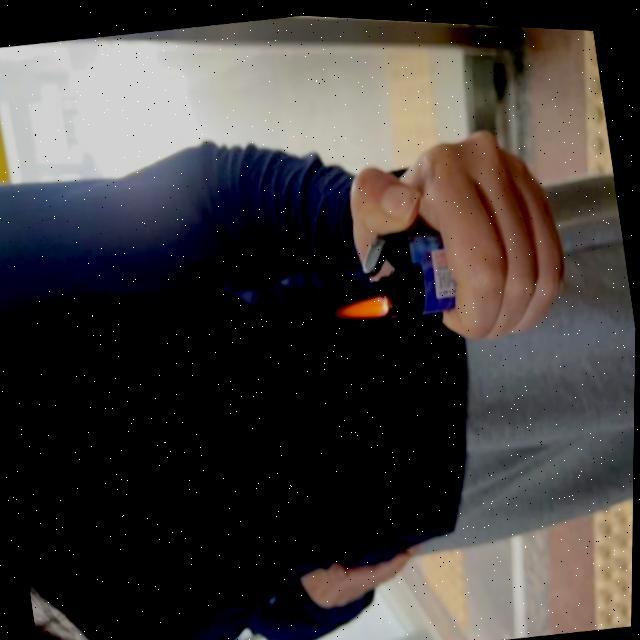Fire: (330, 285, 398, 325)
